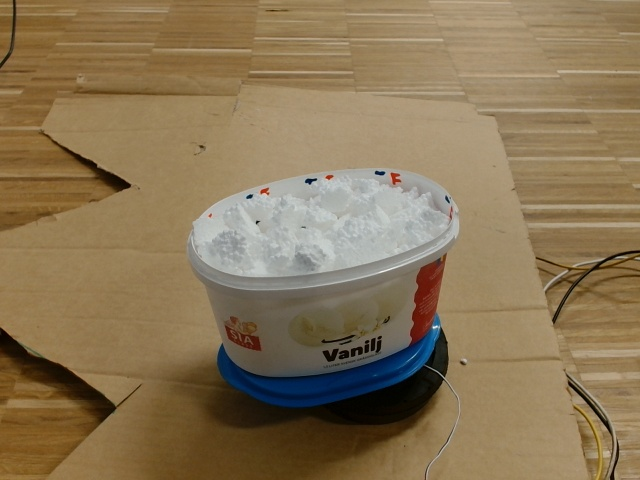Big_full: (185, 162, 463, 299)
